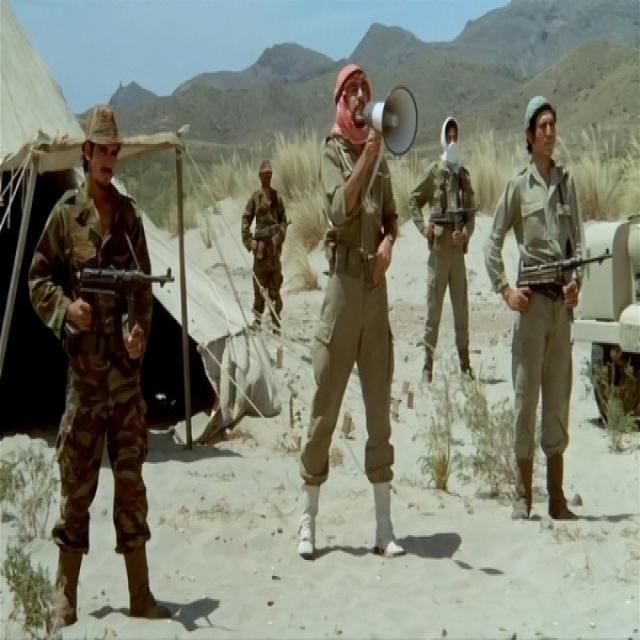rifle: (72, 266, 179, 336), (517, 243, 618, 298)
